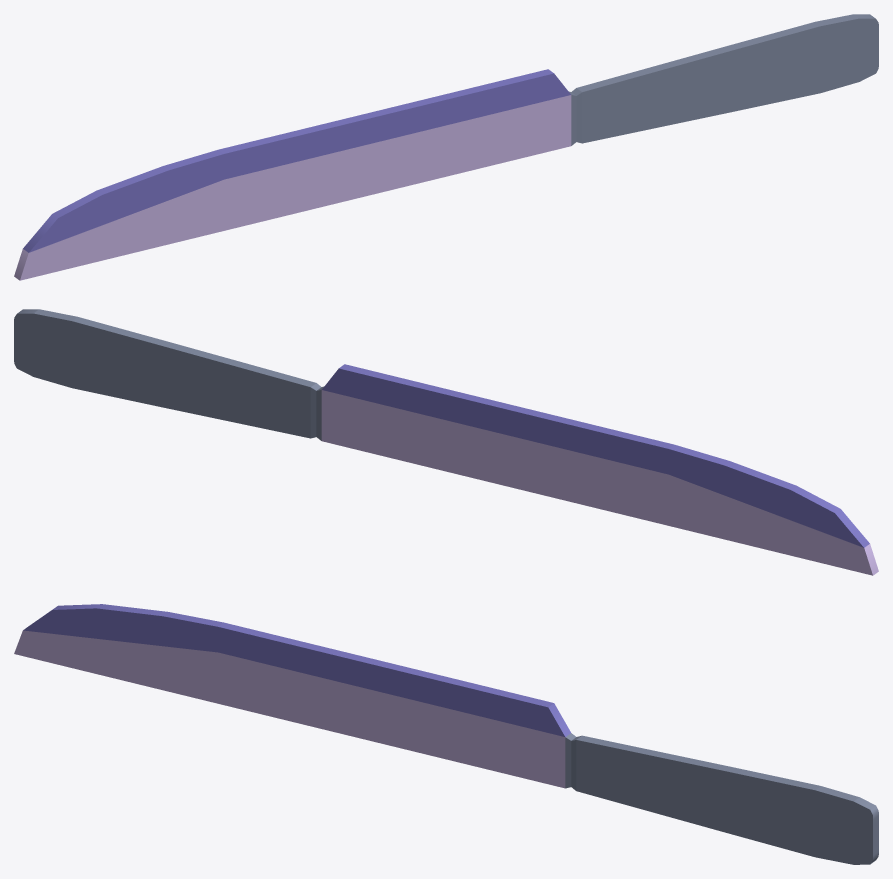
Rendered from knife.fbx.
3 renders of one model, top to bottom at view 1: azimuth 30°, elevation 25°; view 2: azimuth 150°, elevation 25°; view 3: azimuth 330°, elevation 25°, orthographic.
Parts seen in each view (by area): view 1: knife; view 2: knife; view 3: knife.
Part boxes in pixels (x1,y1,x2,y2): knife: [14, 14, 878, 280]; knife: [14, 309, 878, 575]; knife: [14, 604, 878, 864].
Bounding box in the file's own units: 4206 × 397 × 50.
